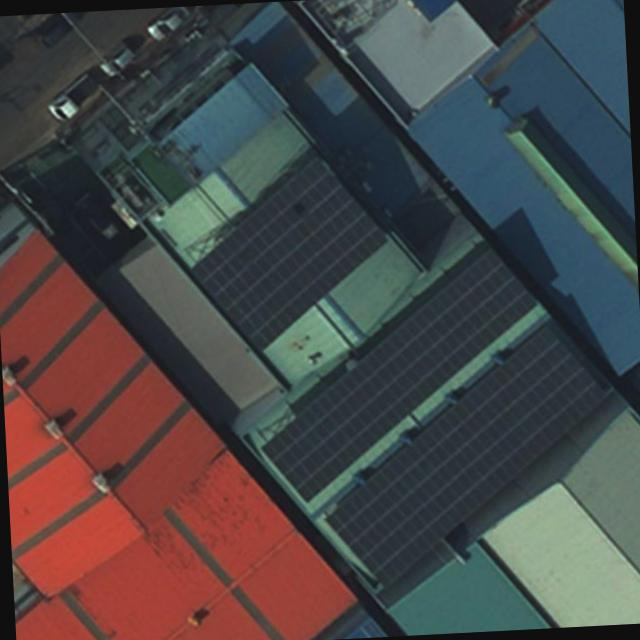solar: (312, 322, 618, 598), (246, 242, 550, 508), (180, 148, 394, 358)
